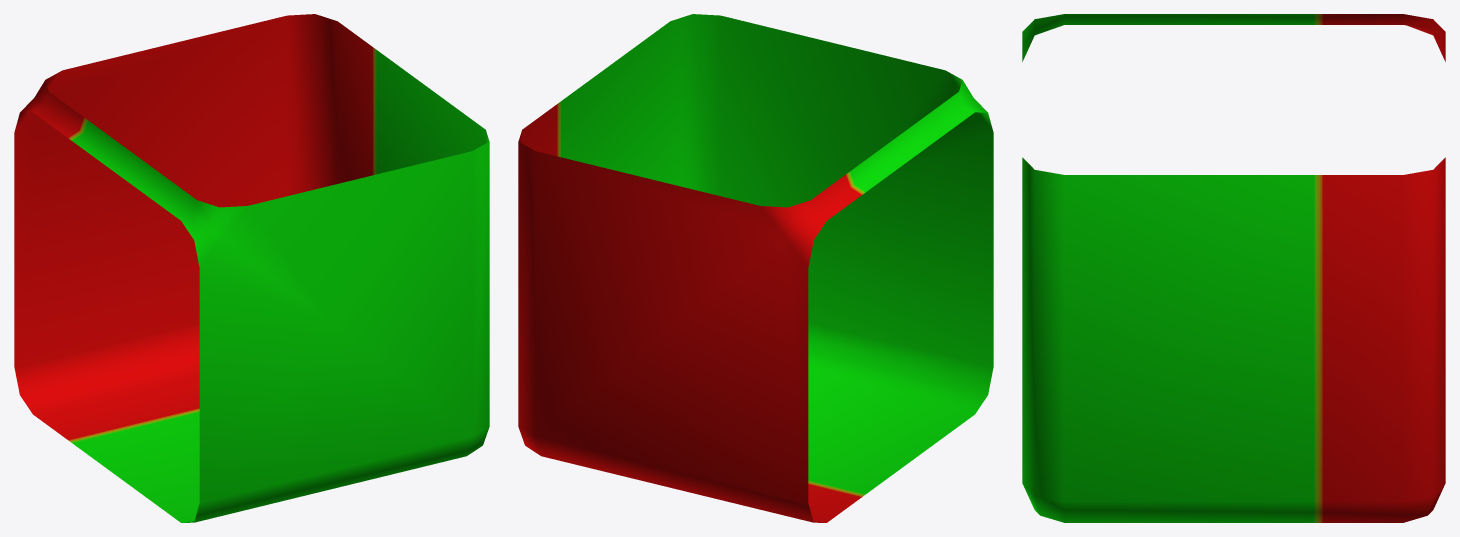
Rendered from Grass-L└.fbx.
3 renders of one model, left to right at view 1: azimuth 30°, elevation 25°; view 2: azimuth 150°, elevation 25°; view 3: azimuth 270°, elevation 25°, orthographic. The views are drawn at different scales.
Parts seen in each view (by area): view 1: Grass-L└; view 2: Grass-L└; view 3: Grass-L└.
Boxes of the visible parts, box(x1,y1,x2,y2) form: Grass-L└: box(14, 14, 489, 522); Grass-L└: box(518, 14, 993, 522); Grass-L└: box(1022, 14, 1445, 522).
Size of the model in its own units: 95 by 100 by 95.
